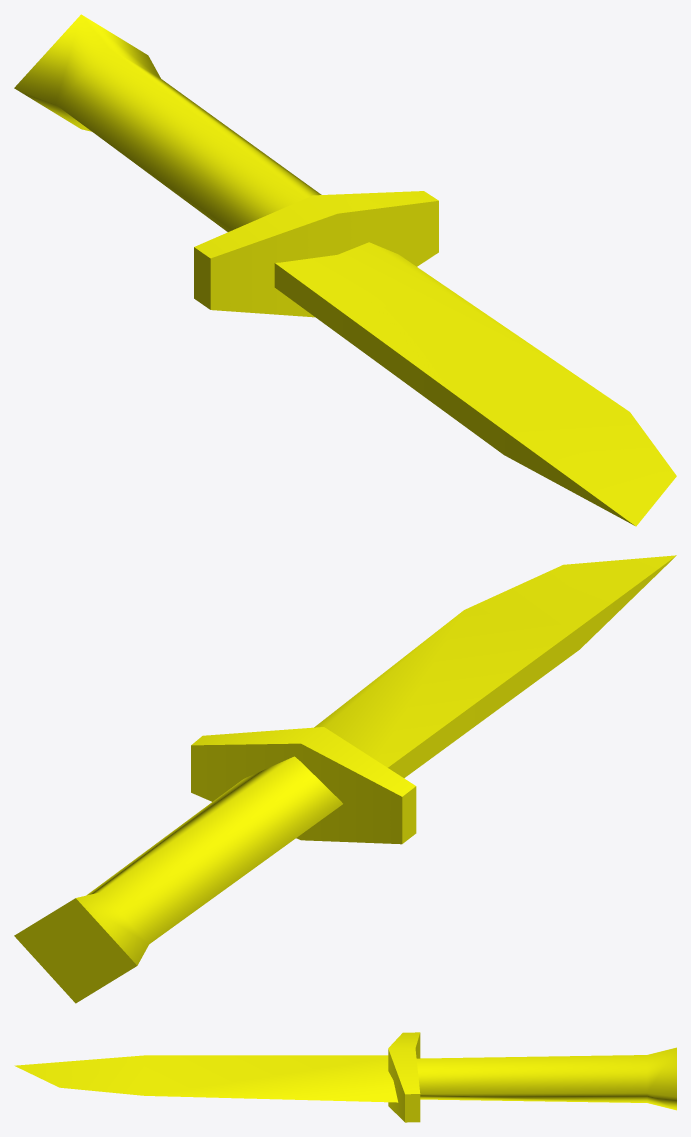
File: weapon_knife_US.glb
3 views of the same model, one above another, from view 1: azimuth 30°, elevation 25°; view 2: azimuth 150°, elevation 25°; view 3: azimuth 270°, elevation 25° (orthographic). The views are drawn at different scales.
Visible parts, largest first — view 1: weapon_knife_US; view 2: weapon_knife_US; view 3: weapon_knife_US.
Boxes of the visible parts, x1,y1,x2,y2 form: weapon_knife_US: (14,14,676,526); weapon_knife_US: (14,555,676,1003); weapon_knife_US: (14,1032,676,1122).
Bounding box in the file's own units: 0.2092 × 0.0994 × 0.9474.
Materials: 1 (1 with a texture image).
